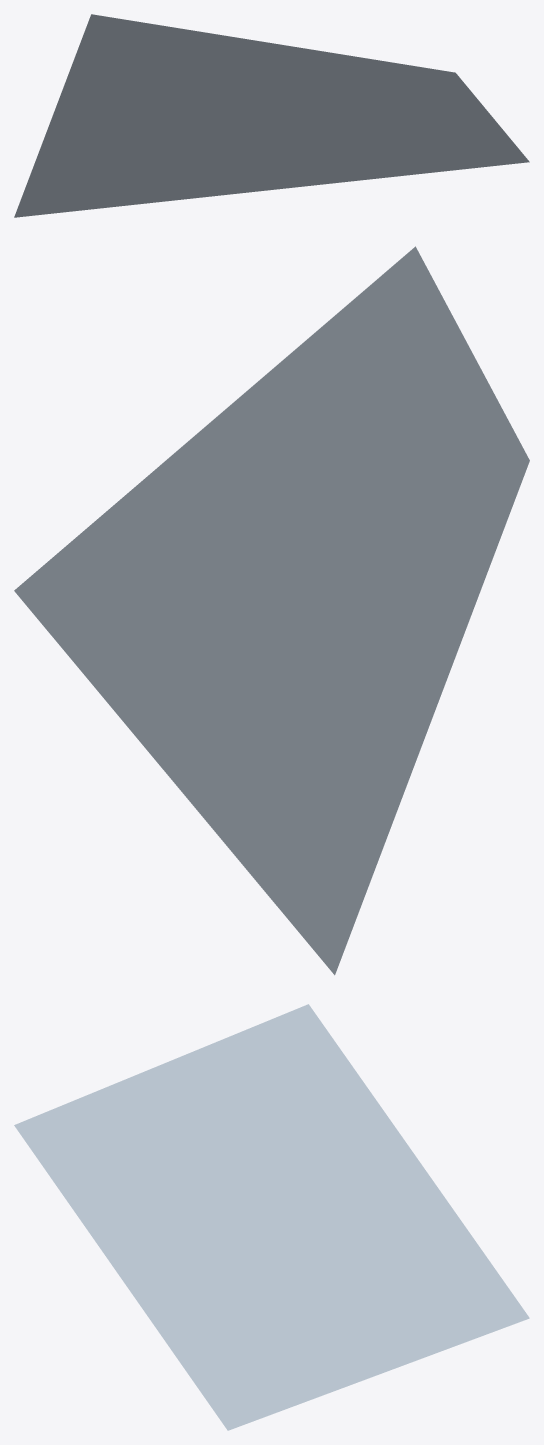
The model's file is costoclavicular-ligament-l.glb.
3 renders of one model, top to bottom at view 1: azimuth 30°, elevation 25°; view 2: azimuth 150°, elevation 25°; view 3: azimuth 270°, elevation 25°, orthographic. The views are drawn at different scales.
Visible parts, largest first — view 1: Costoclavicular ligament.l; view 2: Costoclavicular ligament.l; view 3: Costoclavicular ligament.l.
Boxes of the visible parts, box(x1,y1,x2,y2) form: Costoclavicular ligament.l: box(14, 14, 529, 217); Costoclavicular ligament.l: box(14, 246, 529, 975); Costoclavicular ligament.l: box(14, 1004, 529, 1430).
Size of the model in its own units: 0.012 by 0.00833 by 0.013.
